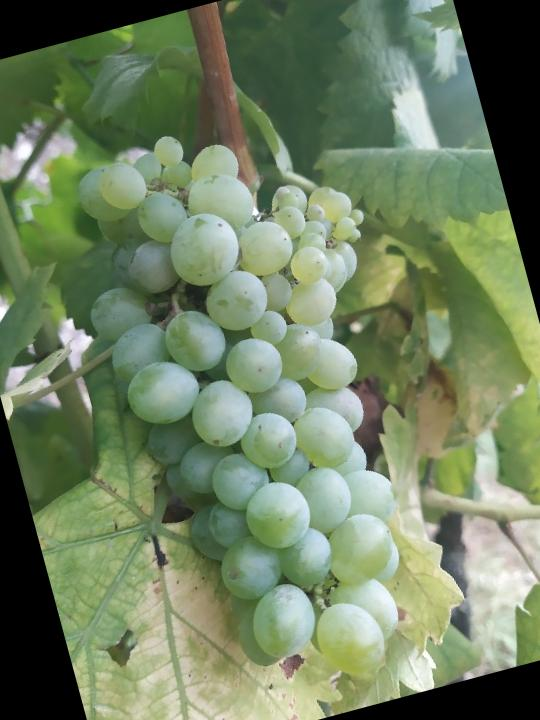grape: (46, 89, 482, 720)
